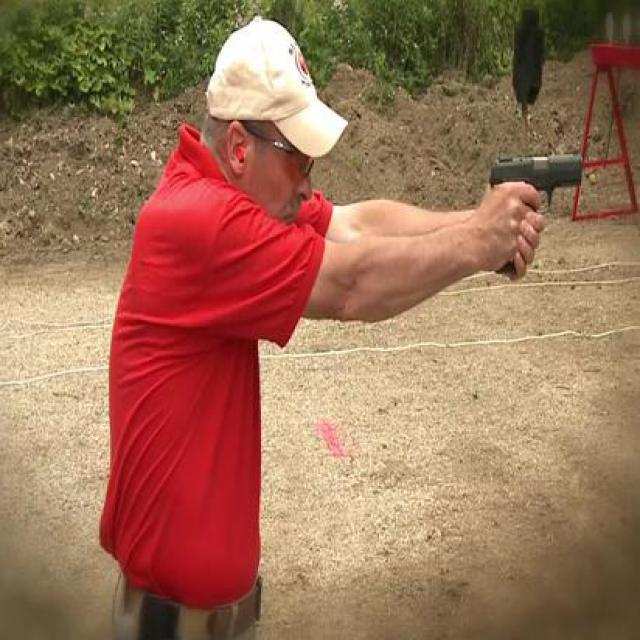Gun: (486, 150, 583, 278)
